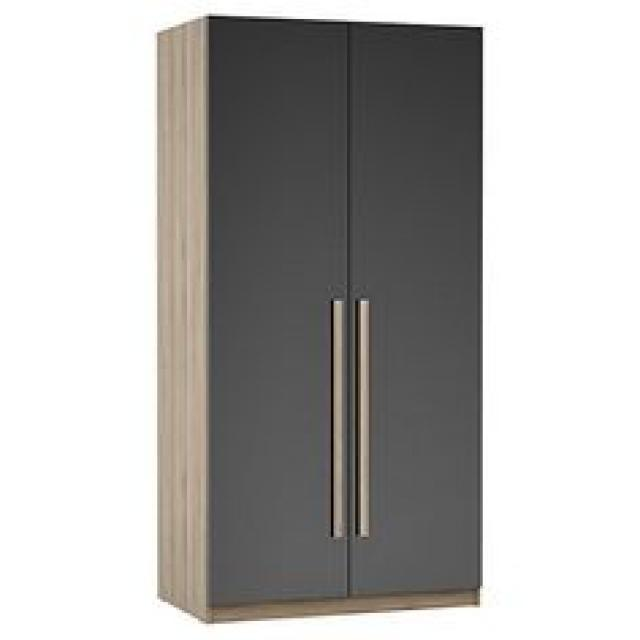Lemari: (205, 13, 483, 623)
